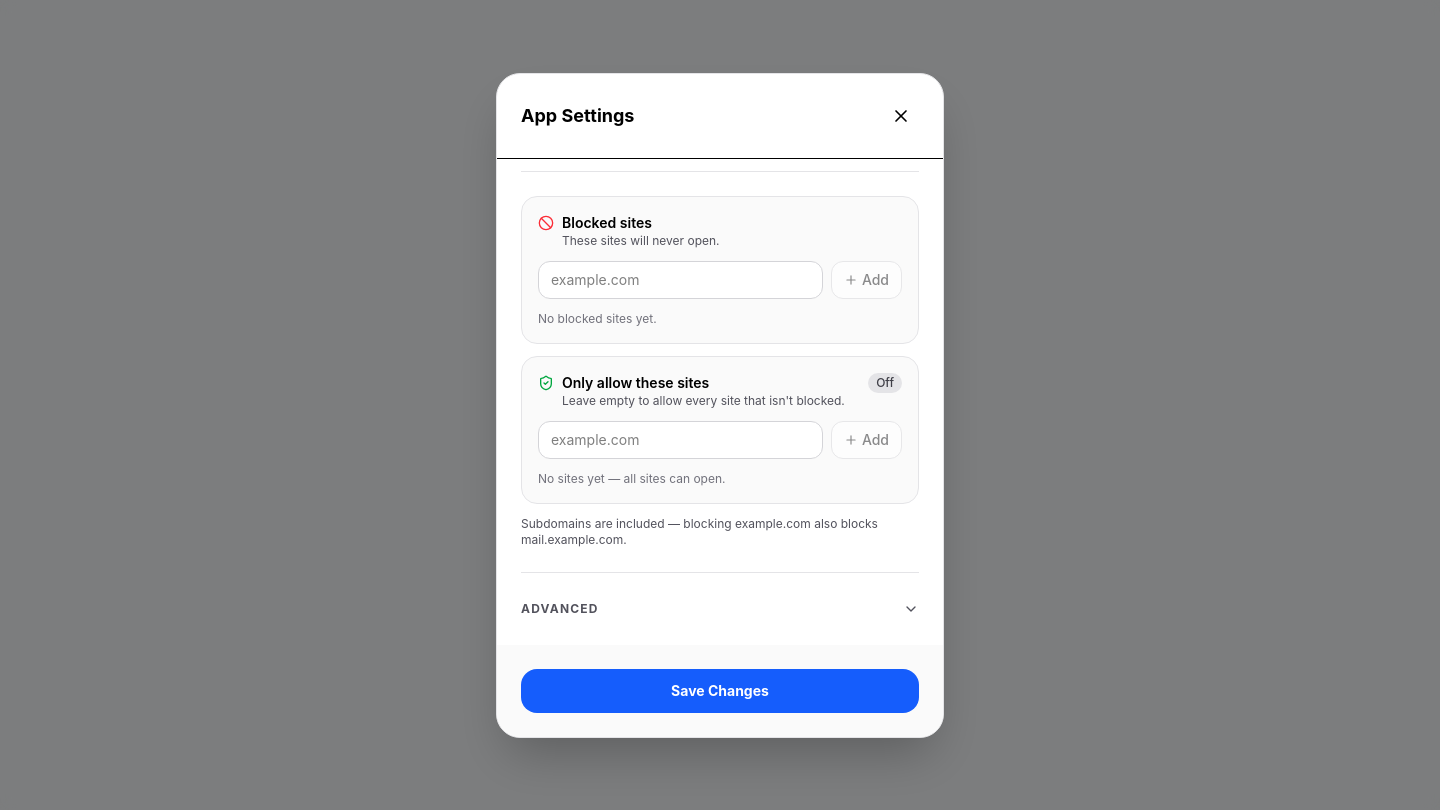
Scenario: Settings › adds a normalized domain to the allowlist on Enter
(page scrolled)
Type "HTTPS://Example.COM/path" into the field named "Add an allowed site".
click(680, 440); type("HTTPS://Example.COM/path")  # box [538,420,823,458]
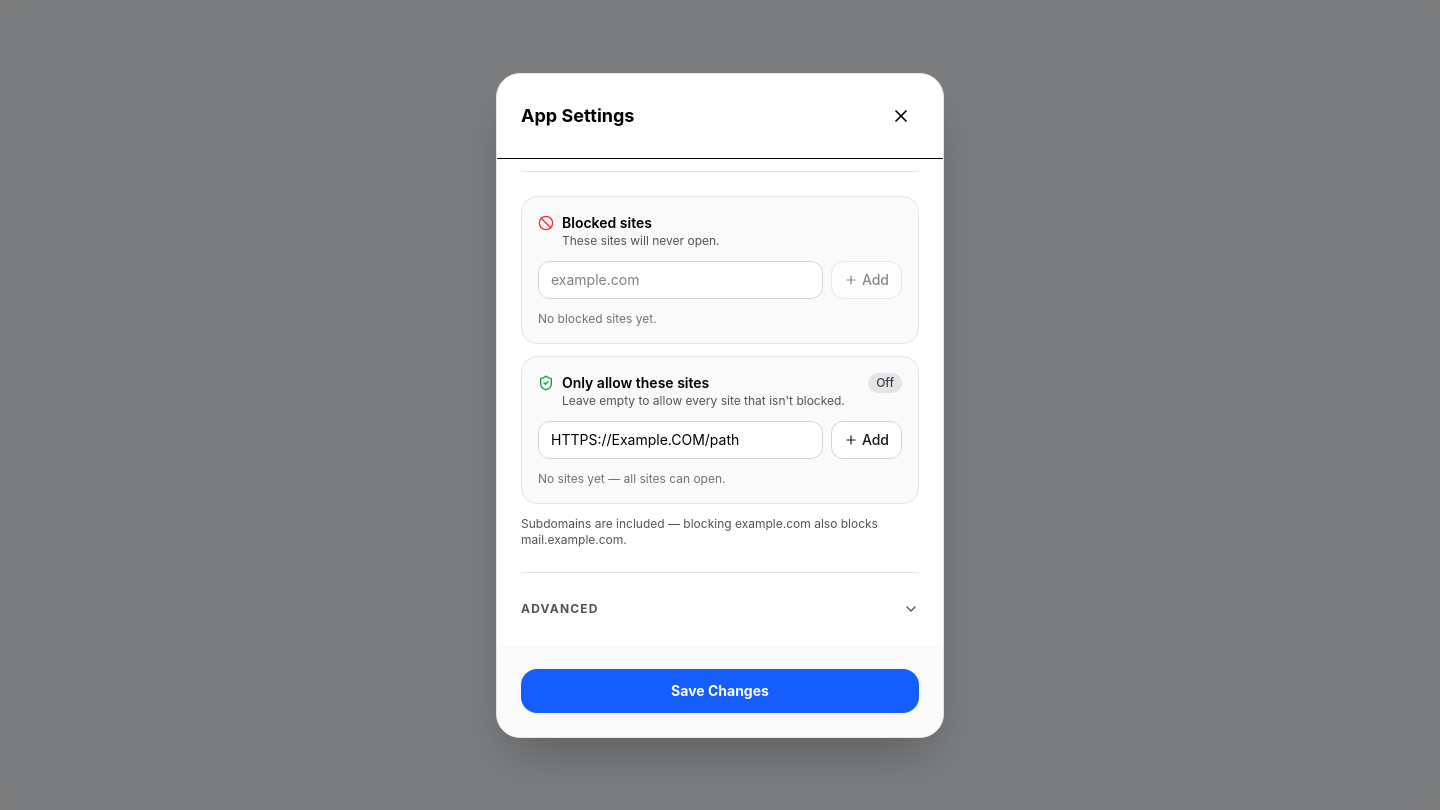
Press Enter in the field named "Add an allowed site", box [538,420,823,458]
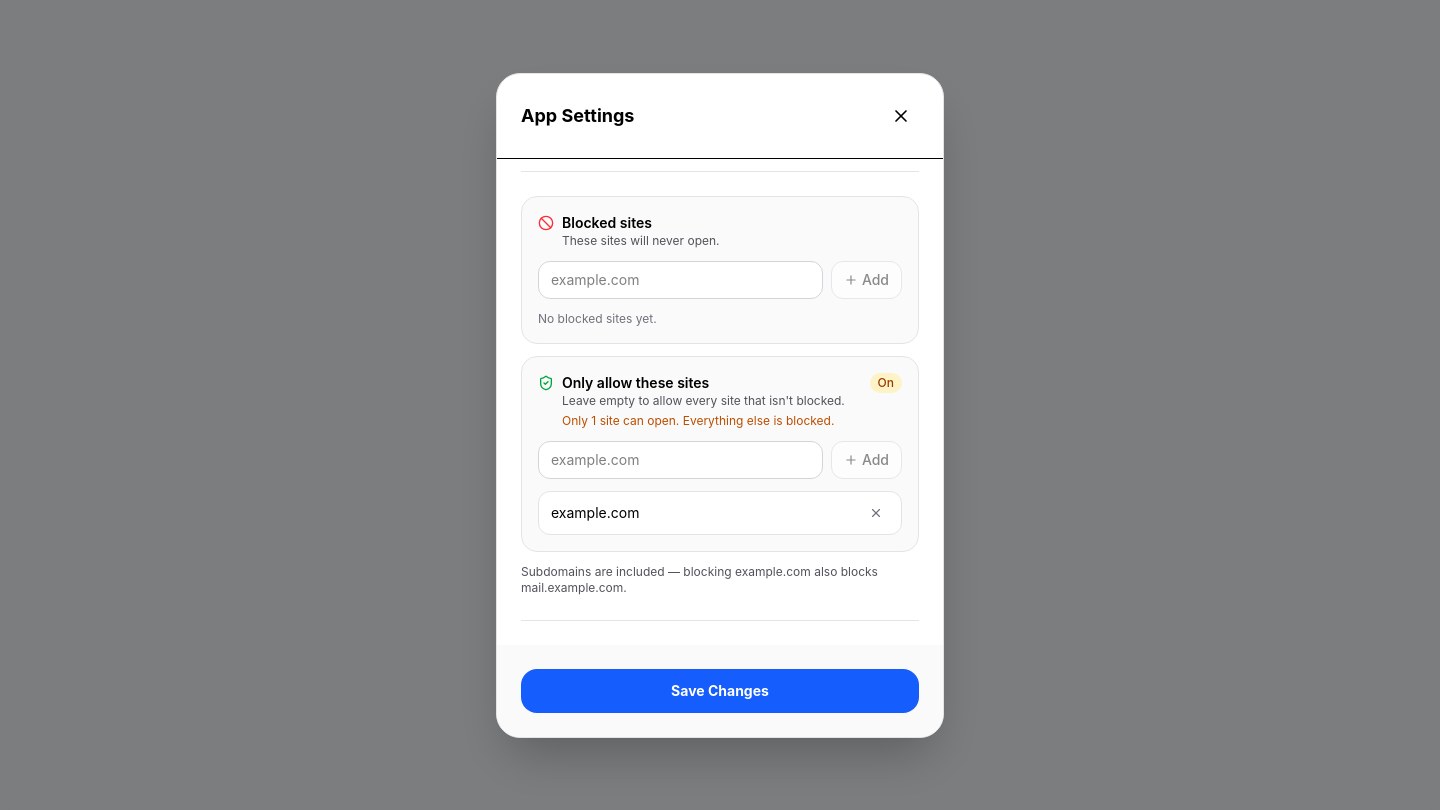
Now the text "example.com" is shown, box [551,502,639,522]
